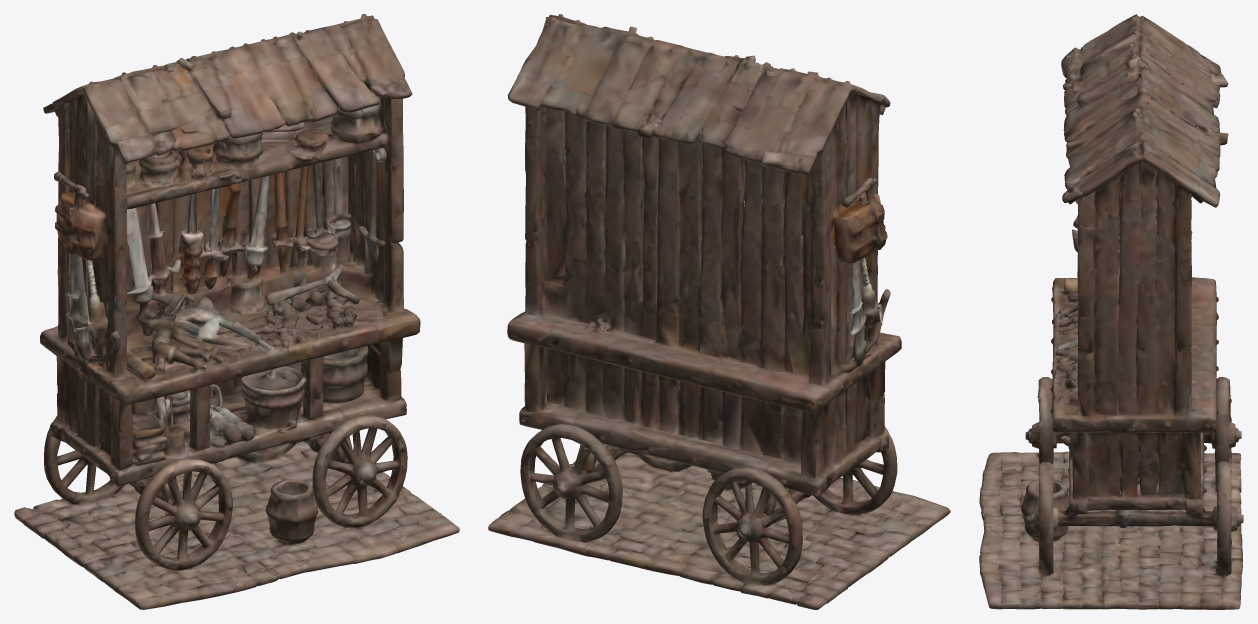
File: market armory1.glb
3 renders of one model, left to right at view 1: azimuth 30°, elevation 25°; view 2: azimuth 150°, elevation 25°; view 3: azimuth 270°, elevation 25°, orthographic. The views are drawn at different scales.
Bounding box in the file's own units: 1.38 × 1.9 × 0.99.
Materials: 1 (1 with a texture image).
